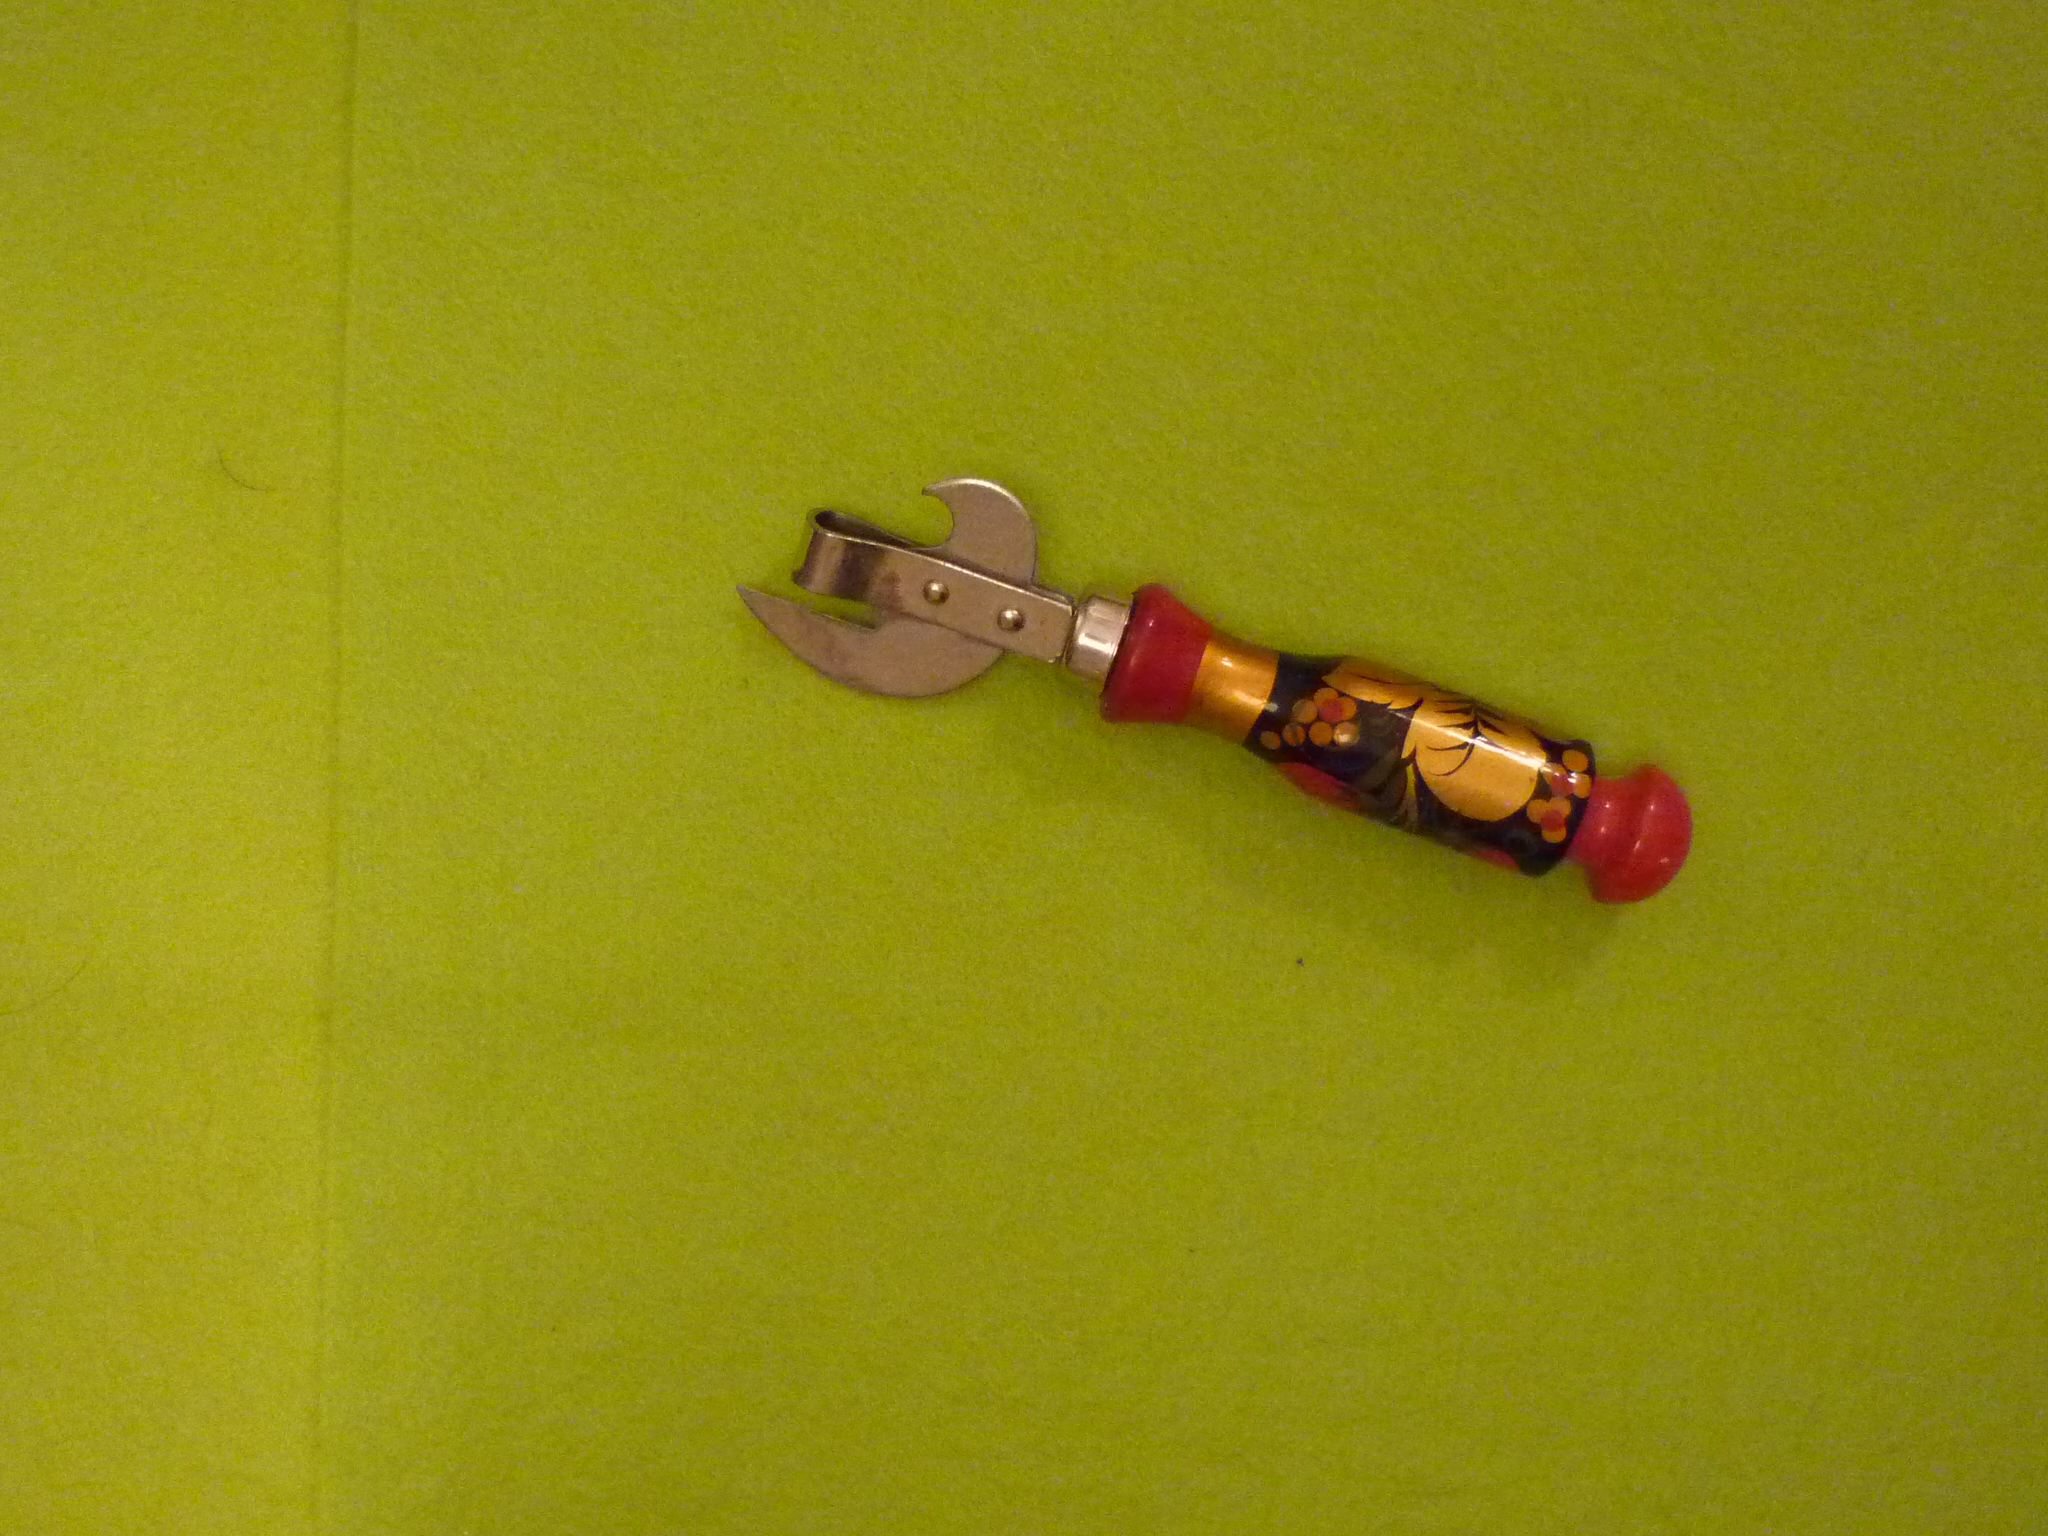bottleopener: (735, 478, 1692, 902)
